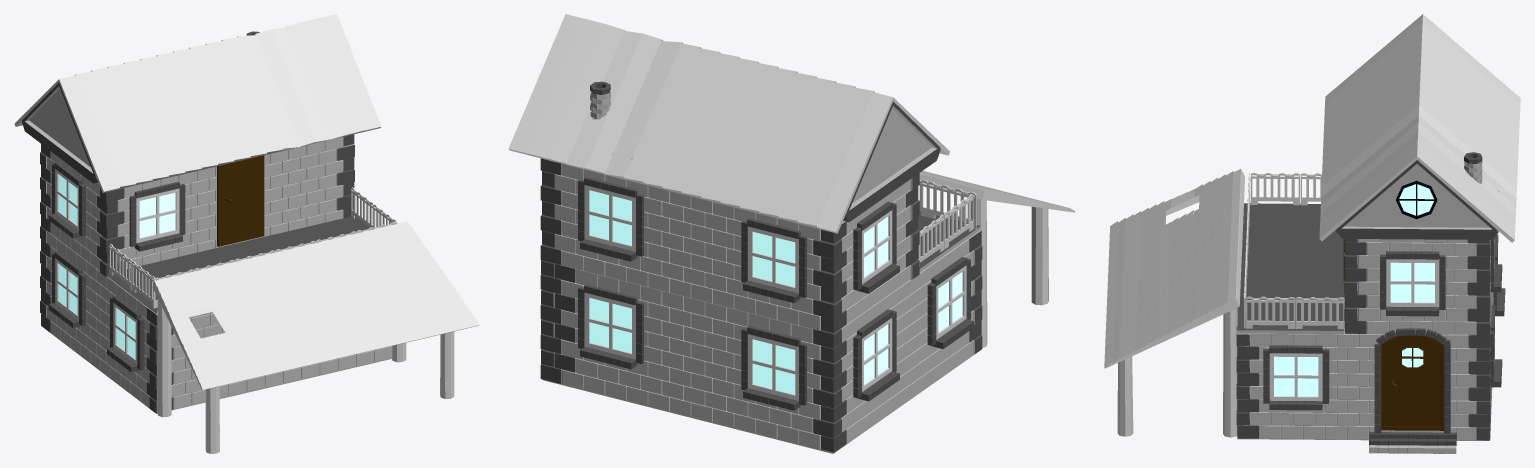
File: Forge.fbx
3 views of the same model, side by side, from view 1: azimuth 30°, elevation 25°; view 2: azimuth 150°, elevation 25°; view 3: azimuth 270°, elevation 25° (orthographic). The views are drawn at different scales.
Visible parts, largest first — view 1: Forge; view 2: Forge; view 3: Forge.
Boxes of the visible parts, x1=… form: Forge: x1=14, y1=14, x2=479, y2=453; Forge: x1=508, y1=14, x2=1075, y2=453; Forge: x1=1104, y1=14, x2=1520, y2=453.
Bounding box in the file's own units: 2327 × 2236 × 2823.
